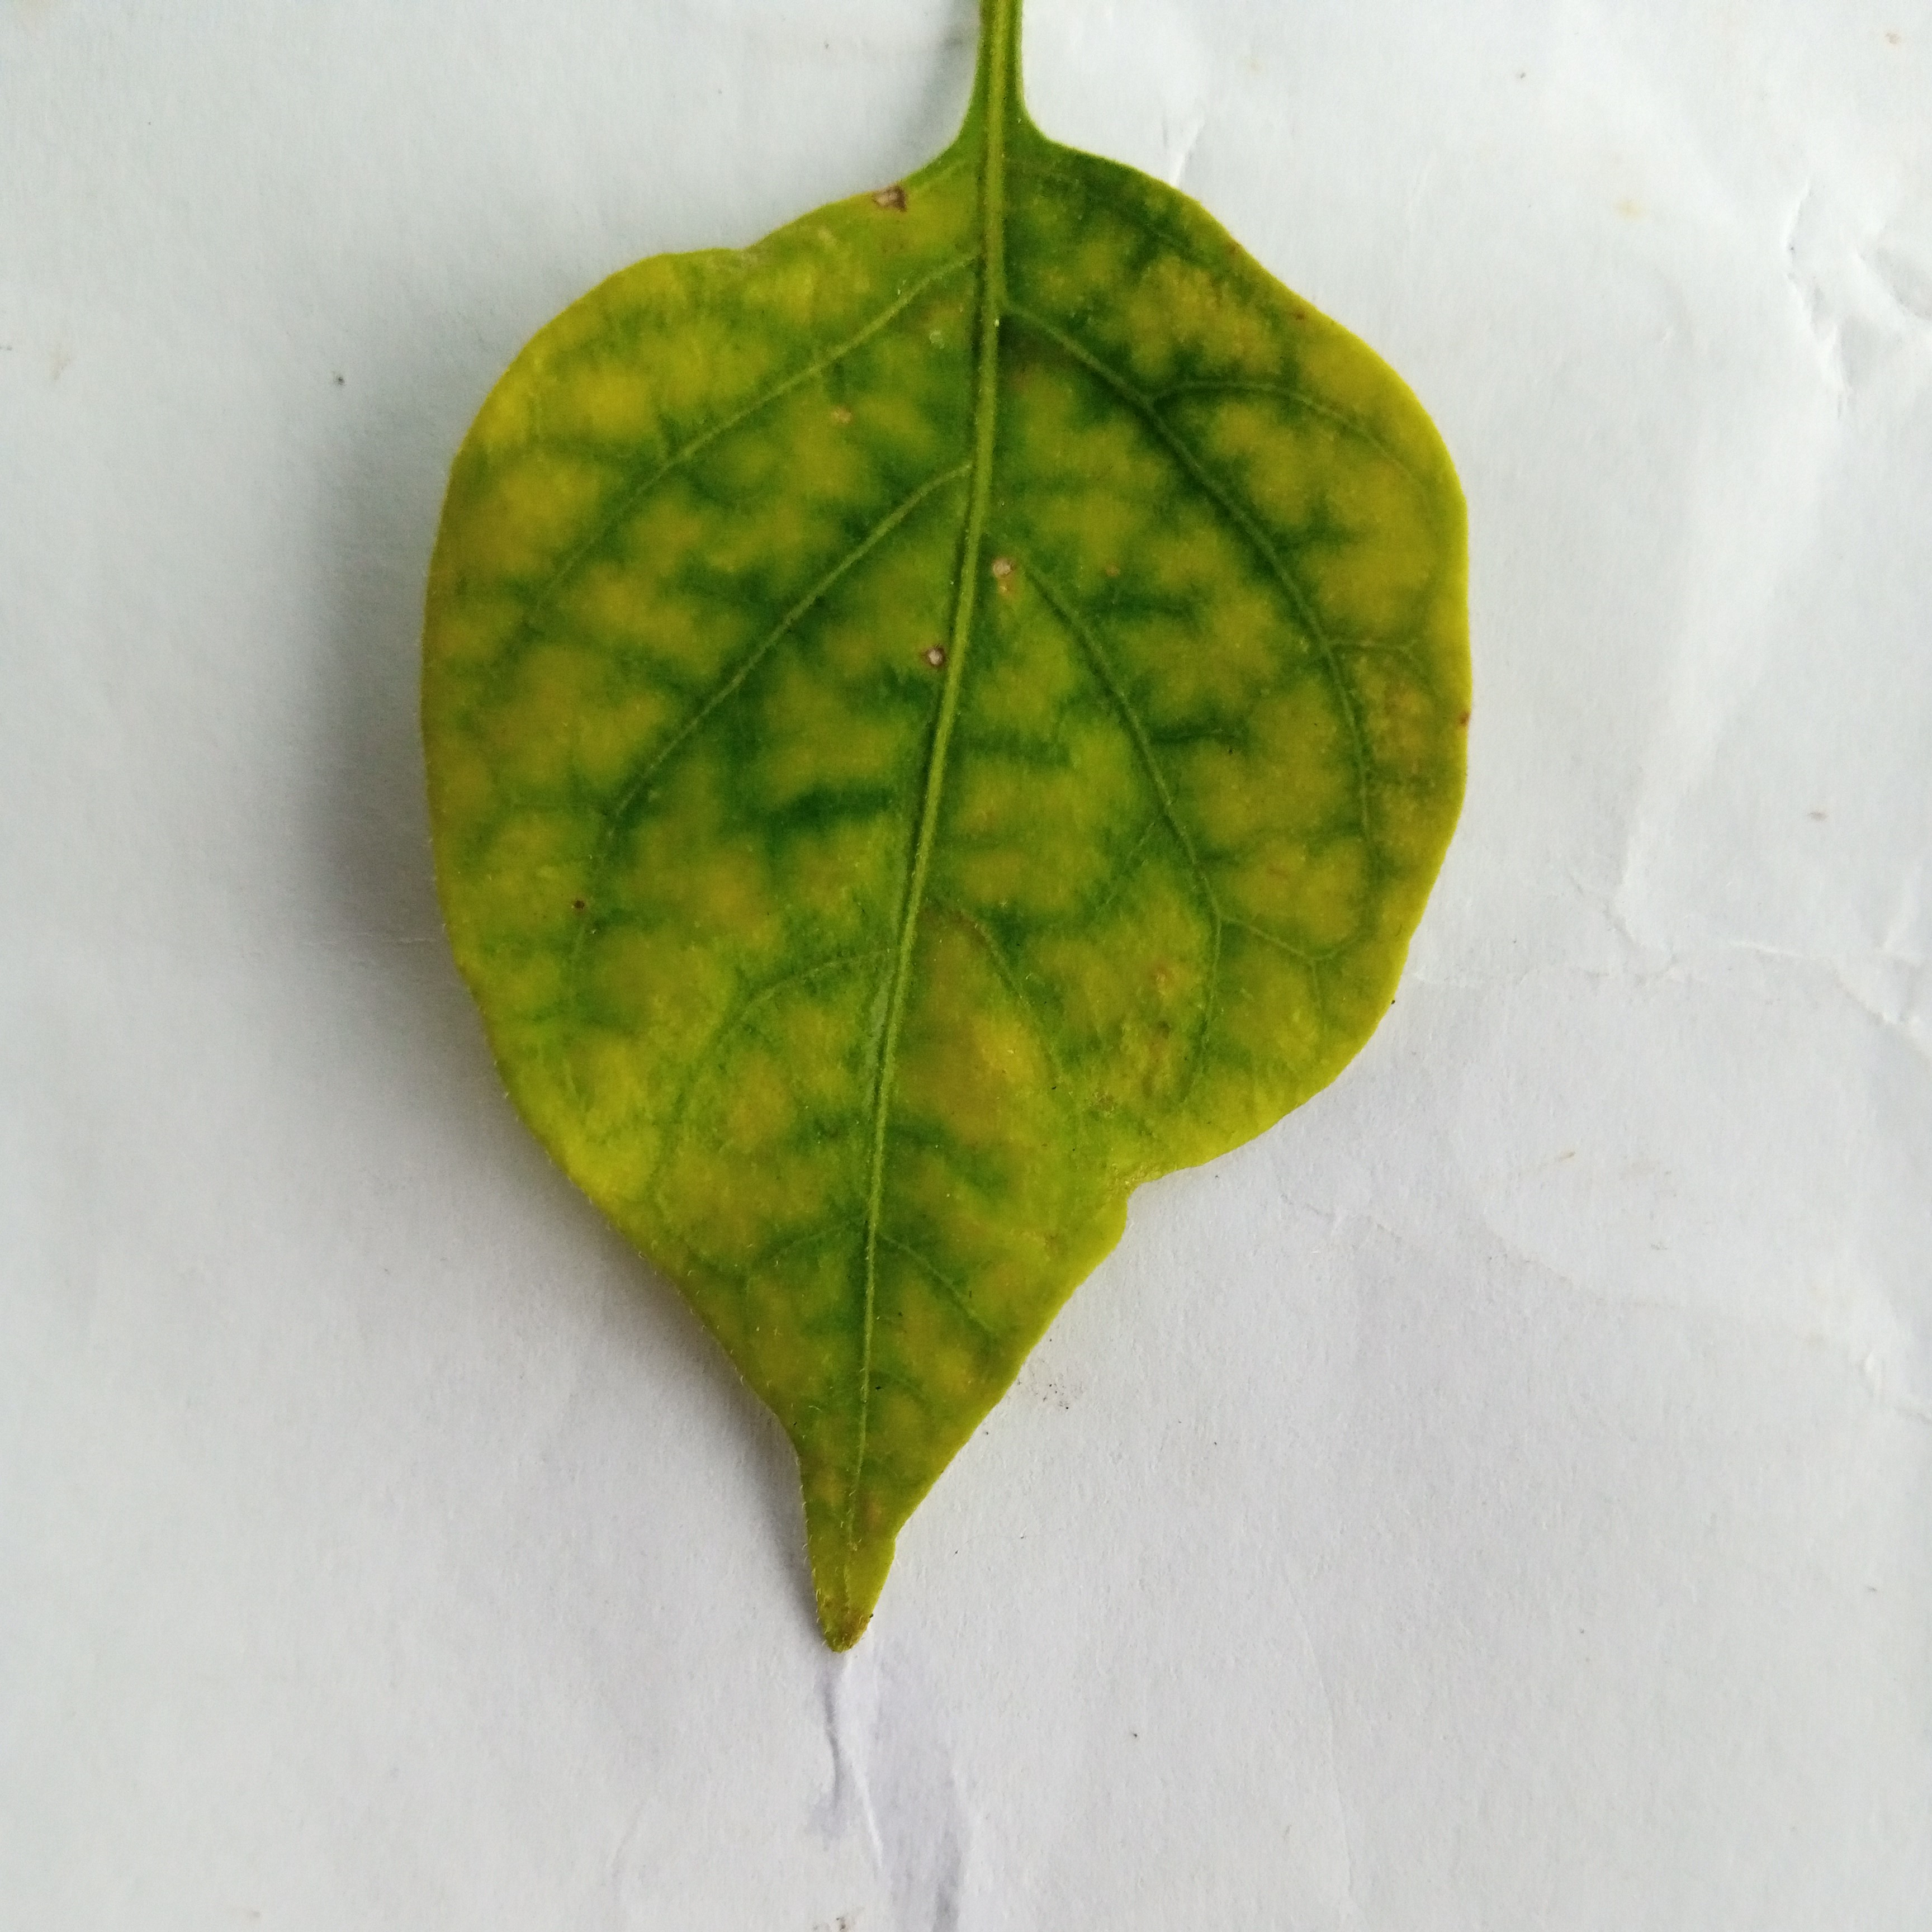Leaf: (242, 48, 1663, 1675)
